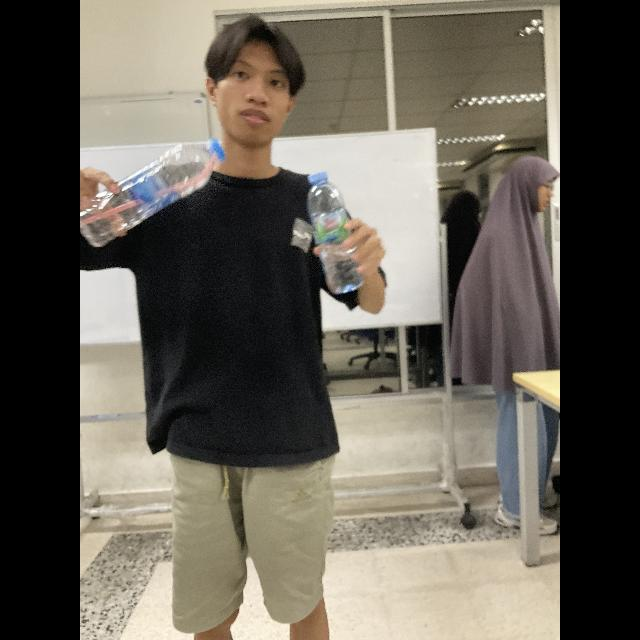plastic_bottle: (82, 137, 226, 245), (308, 170, 370, 294)
plastic_bottle_cap: (208, 137, 226, 163), (309, 170, 327, 186)
